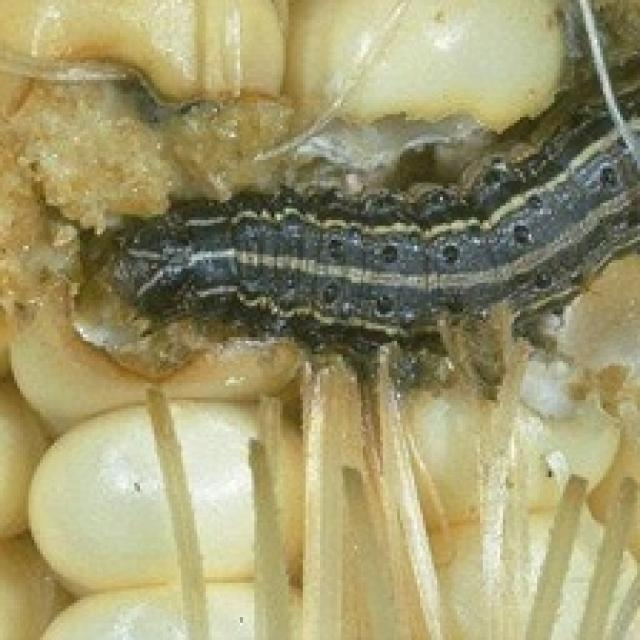worm: (107, 49, 638, 364)
